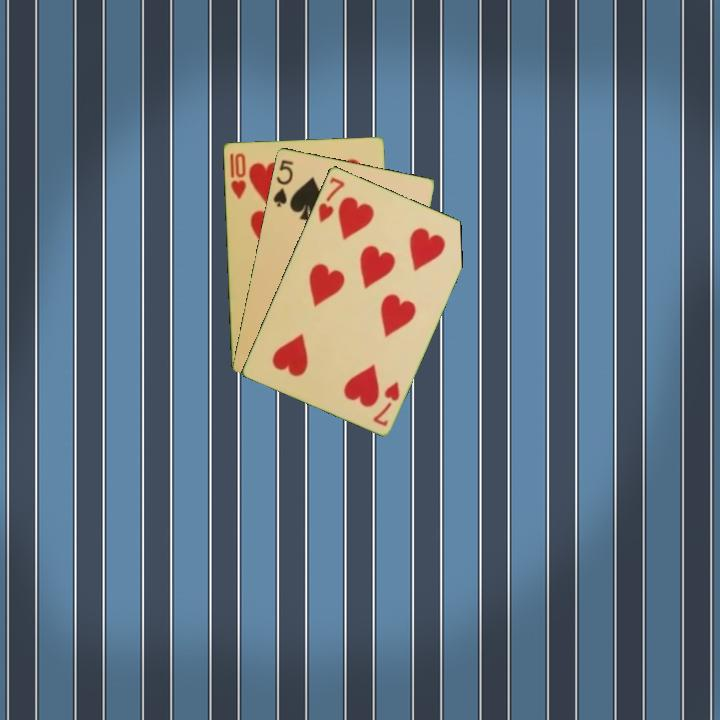10h: (227, 149, 249, 202)
5s: (269, 156, 296, 210)
7h: (314, 173, 347, 225), (369, 377, 402, 429)
